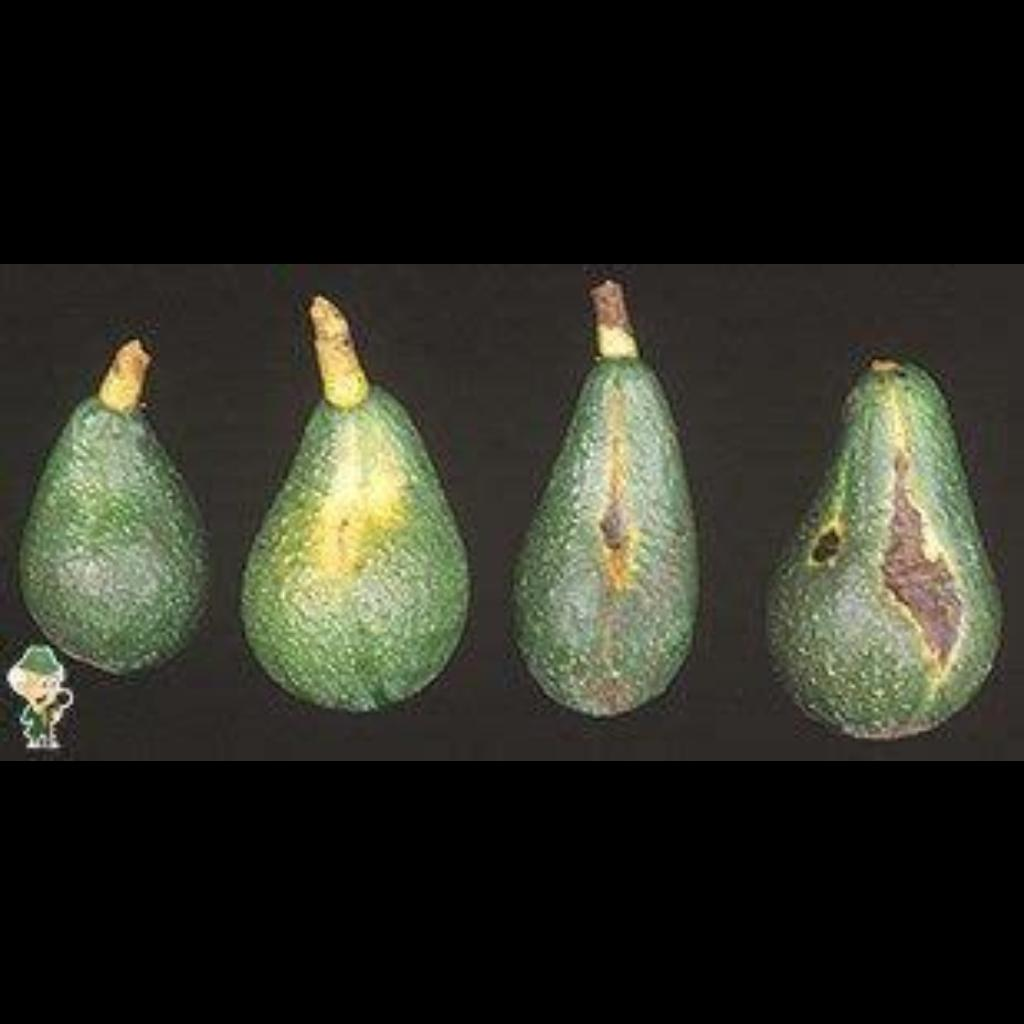sunblotch: (802, 414, 988, 698), (270, 395, 446, 677), (553, 402, 679, 660)
